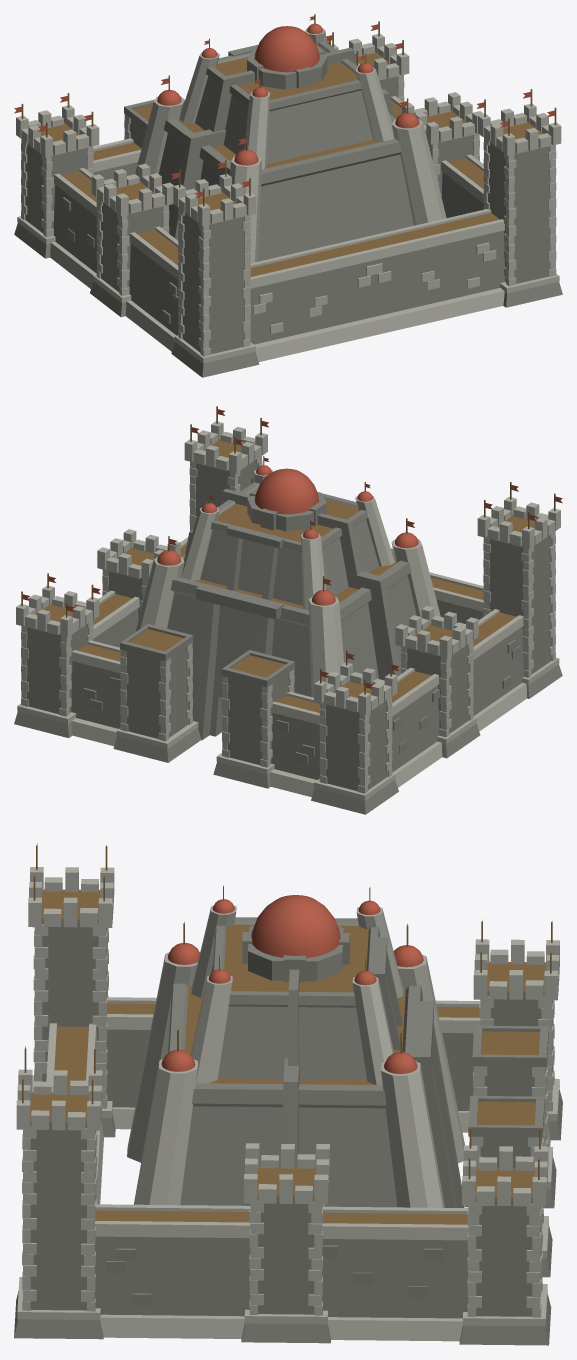
The model's file is wonder_secondage_level3_lev1.glb.
3 views of the same model, one above another, from view 1: azimuth 30°, elevation 25°; view 2: azimuth 150°, elevation 25°; view 3: azimuth 270°, elevation 25° (orthographic). The views are drawn at different scales.
Parts seen in each view (by area): view 1: wonder_secondage_level3_lev1; view 2: wonder_secondage_level3_lev1; view 3: wonder_secondage_level3_lev1.
Part boxes in pixels (x1,y1,x2,y2): wonder_secondage_level3_lev1: [14, 14, 562, 377]; wonder_secondage_level3_lev1: [14, 406, 562, 814]; wonder_secondage_level3_lev1: [14, 843, 562, 1345].
Size of the model in its own units: 26.3 by 16.5 by 24.48.
